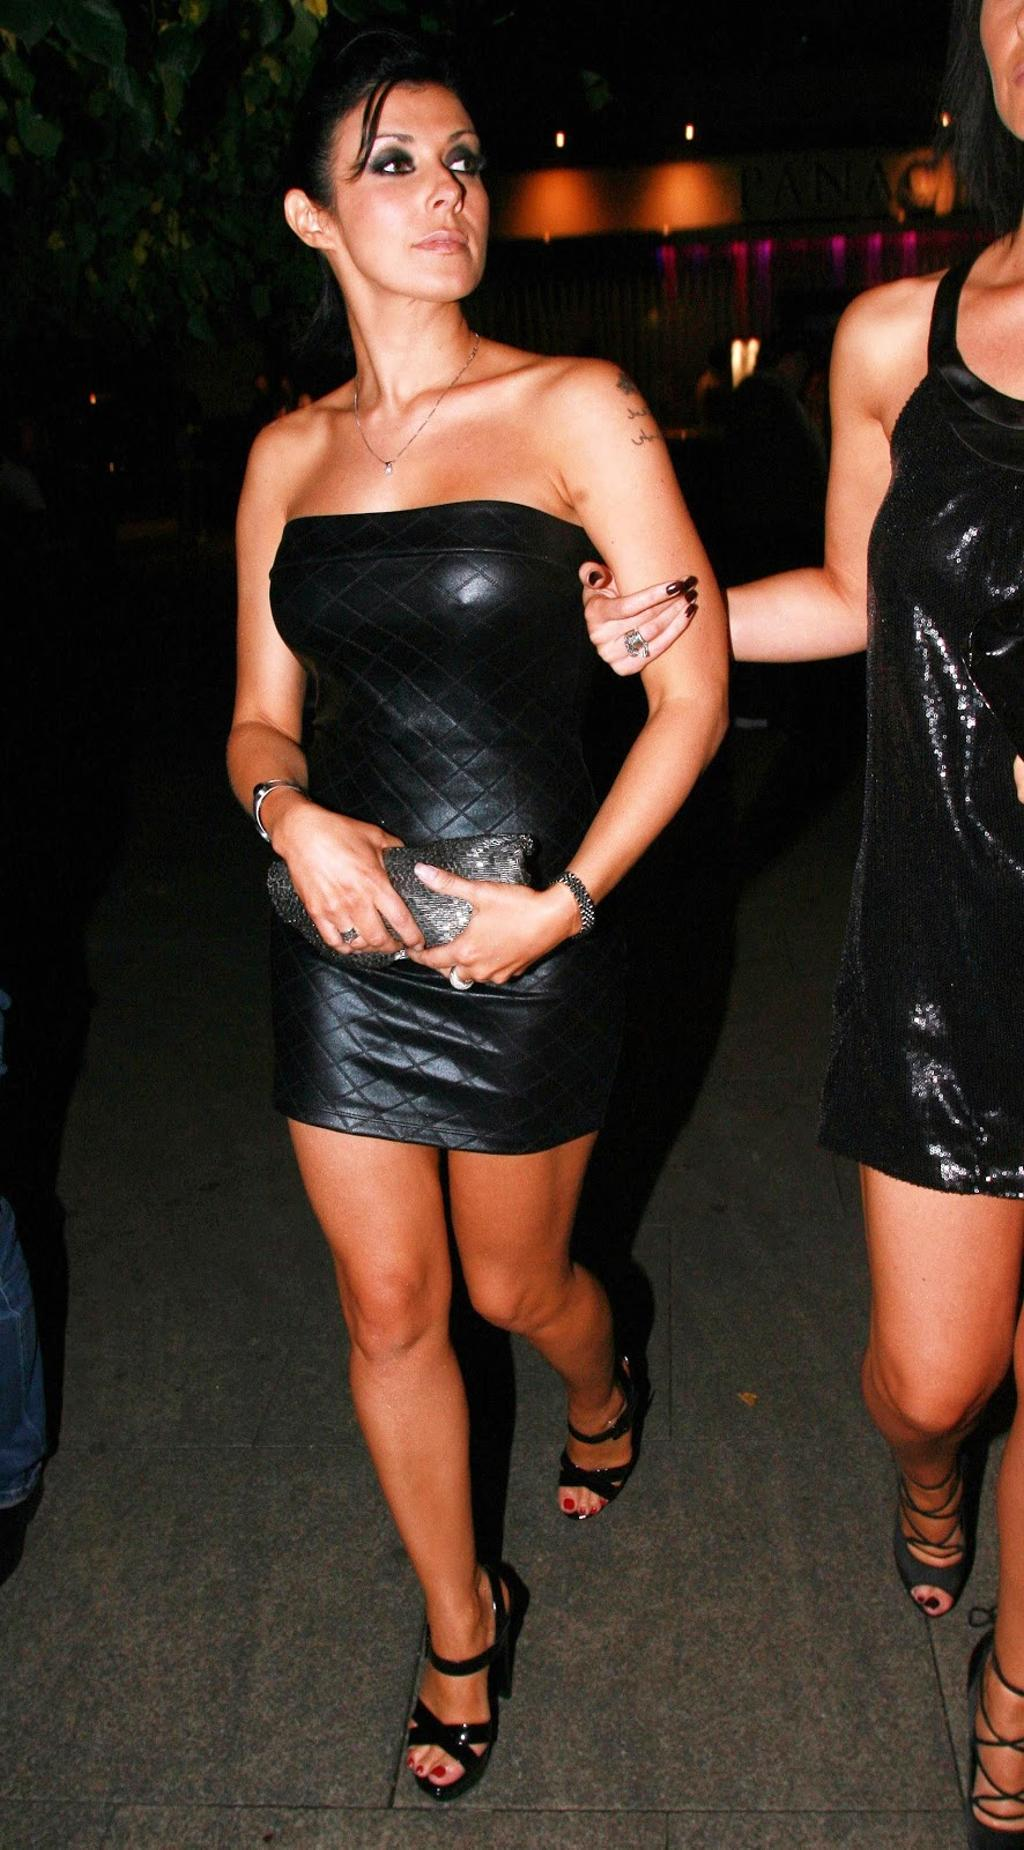face: (335, 90, 490, 296)
